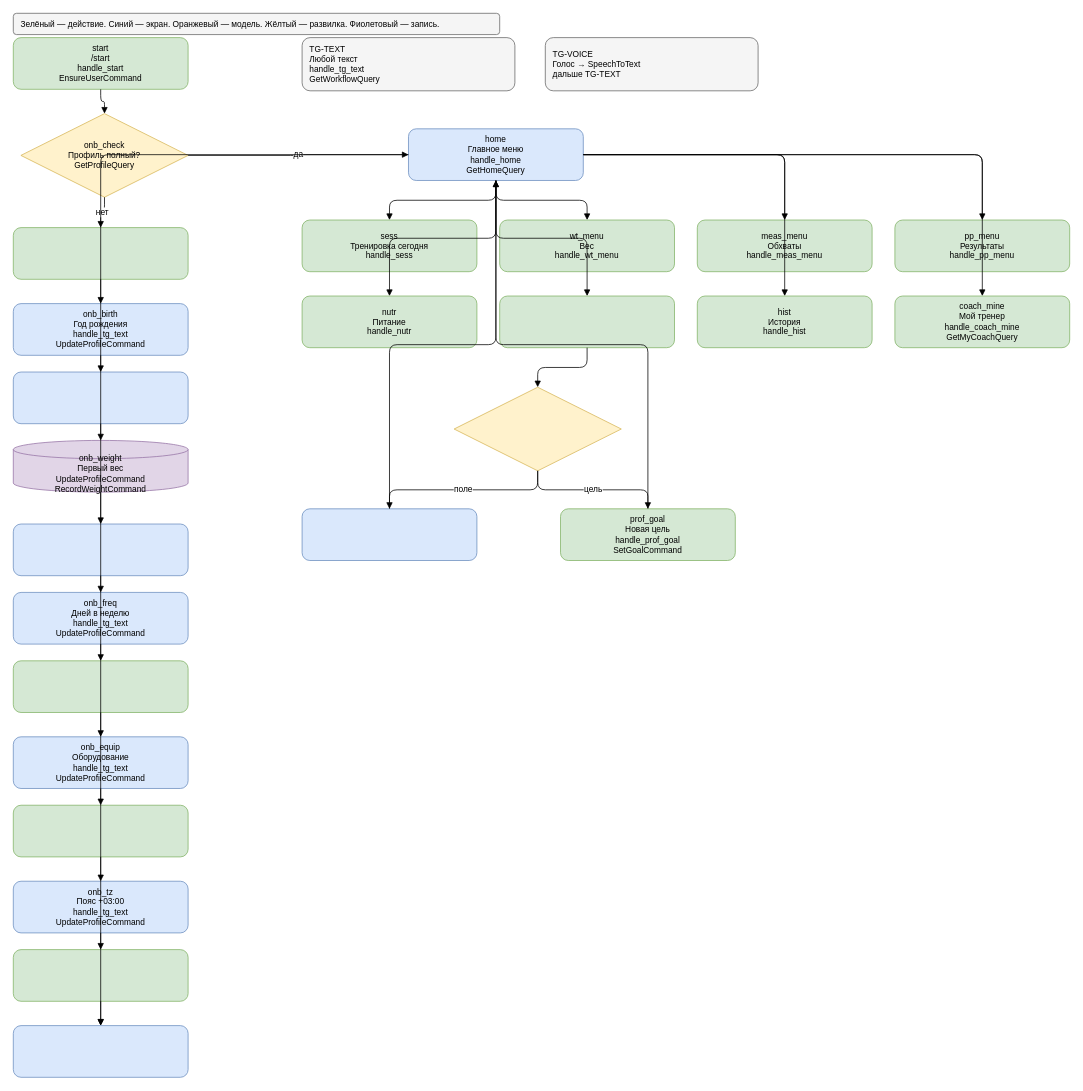
This 1083x1091 diagram has some shape labels left out. Here are the shapes that lost their labels. From the top down, the box of each, then its label:
(13, 227, 188, 279): onb_sex Пол handle_onb_sex UpdateProfileCommand
(499, 295, 674, 348): profile Профиль handle_profile GetProfileQuery
(13, 371, 188, 424): onb_height Рост handle_tg_text UpdateProfileCommand
(453, 386, 621, 471): prof_edit Поле или цель? handle_prof_edit
(13, 523, 188, 576): onb_exp Опыт handle_tg_text UpdateProfileCommand
(301, 508, 477, 560): prof_value Новое значение поля UpdateProfileCommand
(13, 660, 188, 712): onb_days Дни недели handle_onb_days UpdateProfileCommand
(13, 804, 188, 857): onb_limits Ограничения или нет handle_onb_limits UpdateProfileCommand
(13, 949, 188, 1001): onb_goal Одна цель handle_onb_goal SetGoalCommand
(13, 1025, 188, 1077): prog Дальше программа handle_prog
